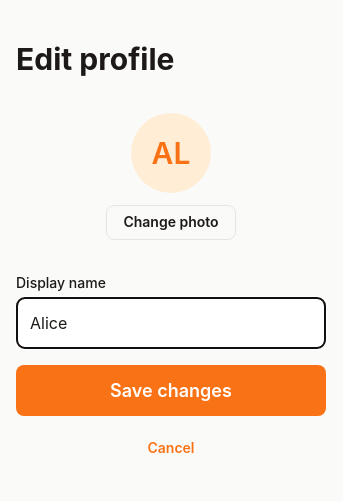
EditProfileScreen › shows server validation error
Replace the text in the field with test id "edit-display-name-input" with "Bad<>Name" at (171, 323), box [16,297,326,349]
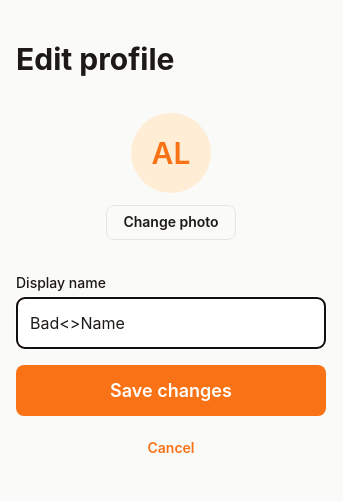
Click the button "Save changes".
click(171, 390)  # box [16,365,326,416]
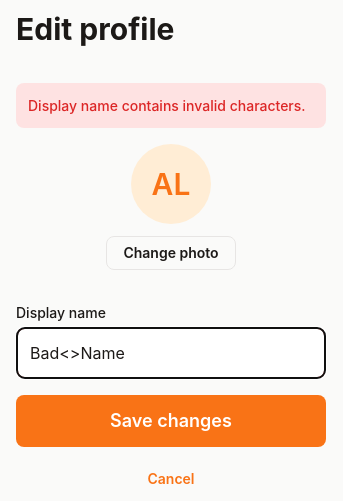
Expected: the text "Display name contains invalid characters." is shown, [28,95,314,116]
